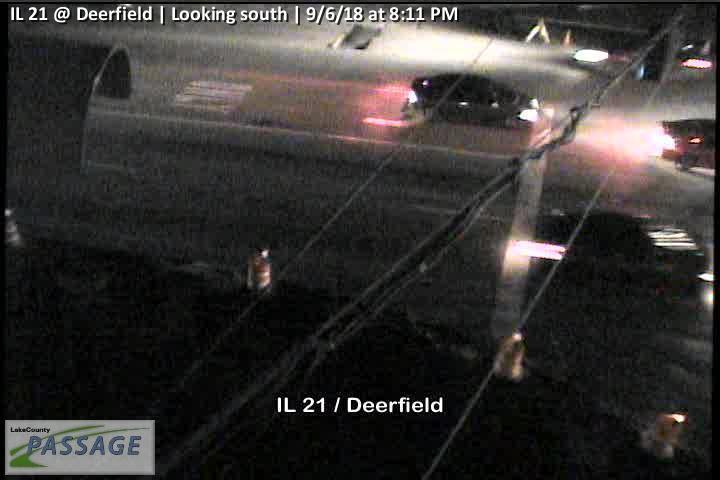Sedan: (408, 74, 540, 127), (648, 118, 716, 173)
